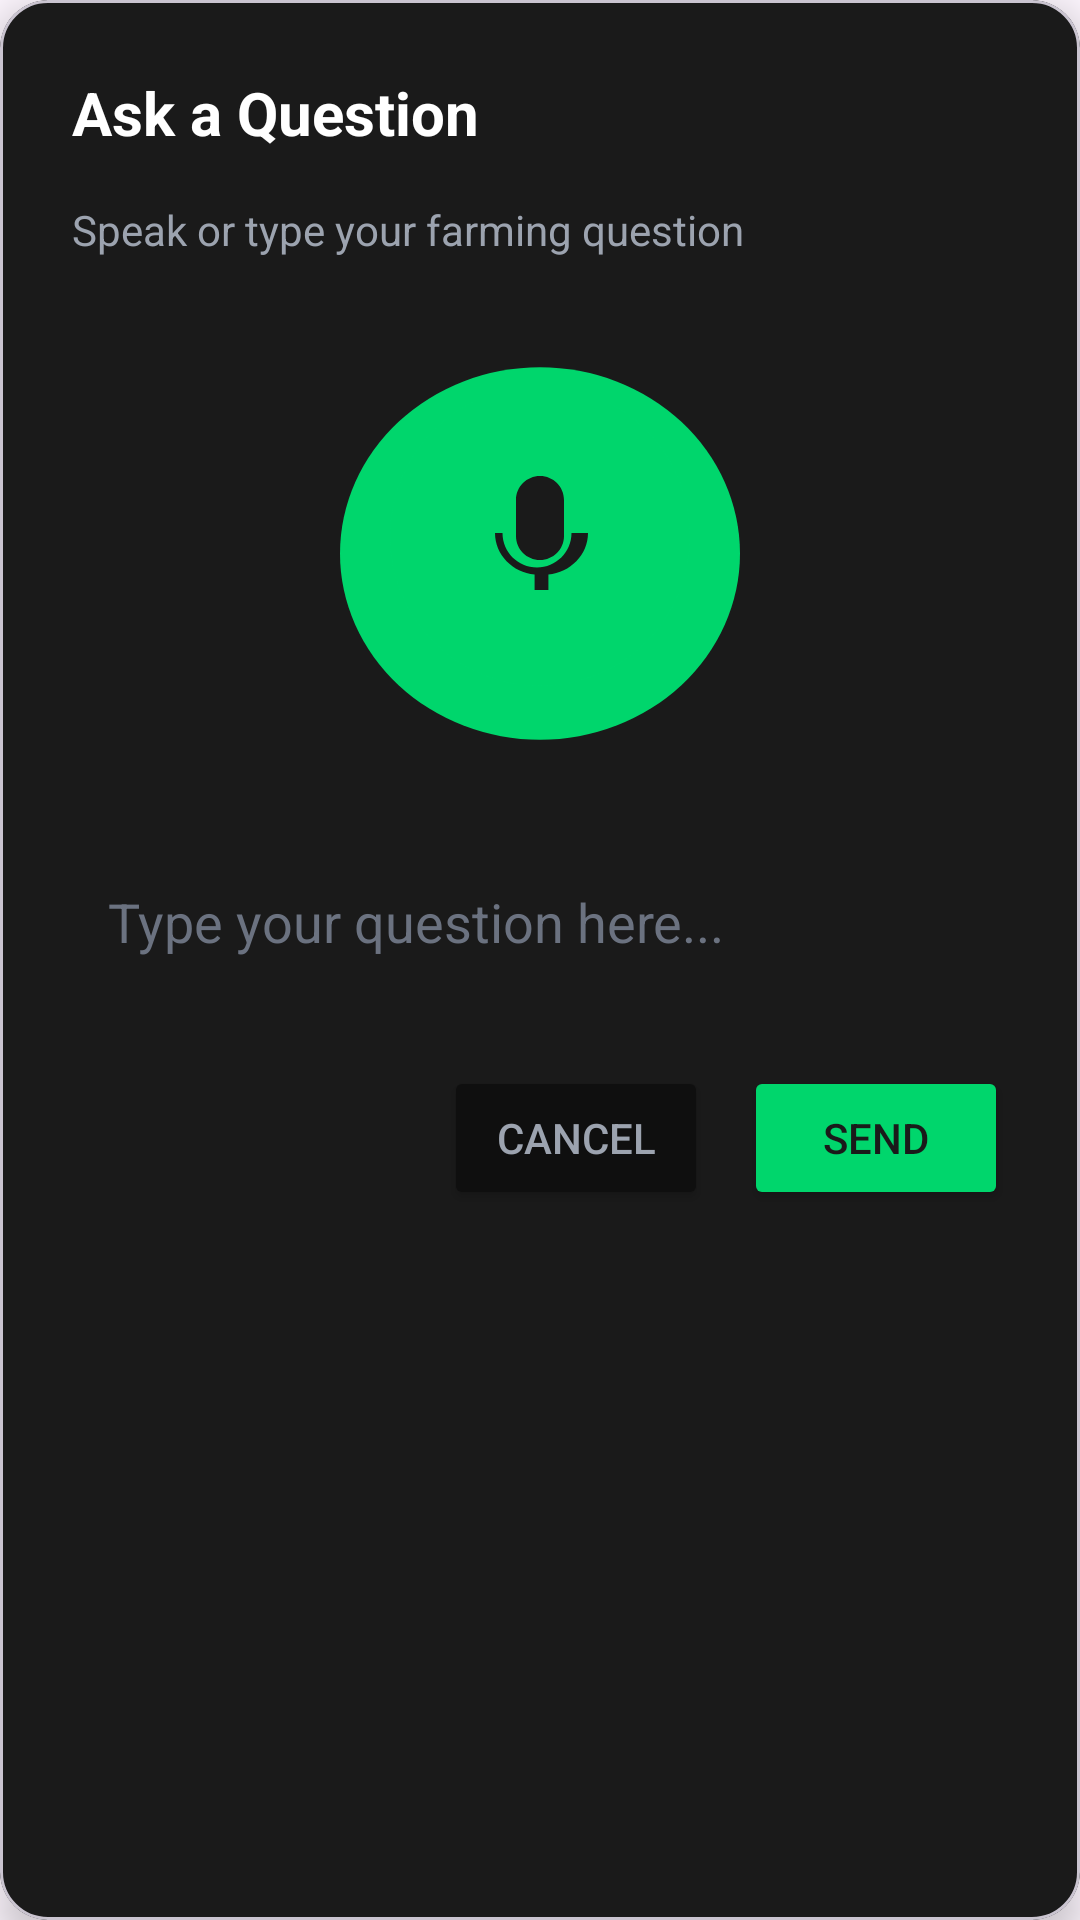

Screen size 1080w x 1920h. Icon name, then its center in pixels as point (x, y):
Record Voice: point (540, 541)
